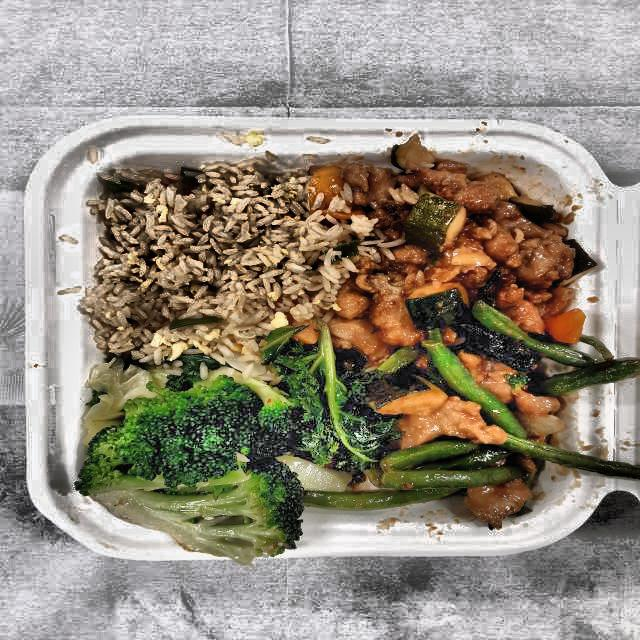Food: (330, 312, 620, 528), (308, 140, 594, 352), (81, 350, 367, 552), (83, 160, 338, 362)
